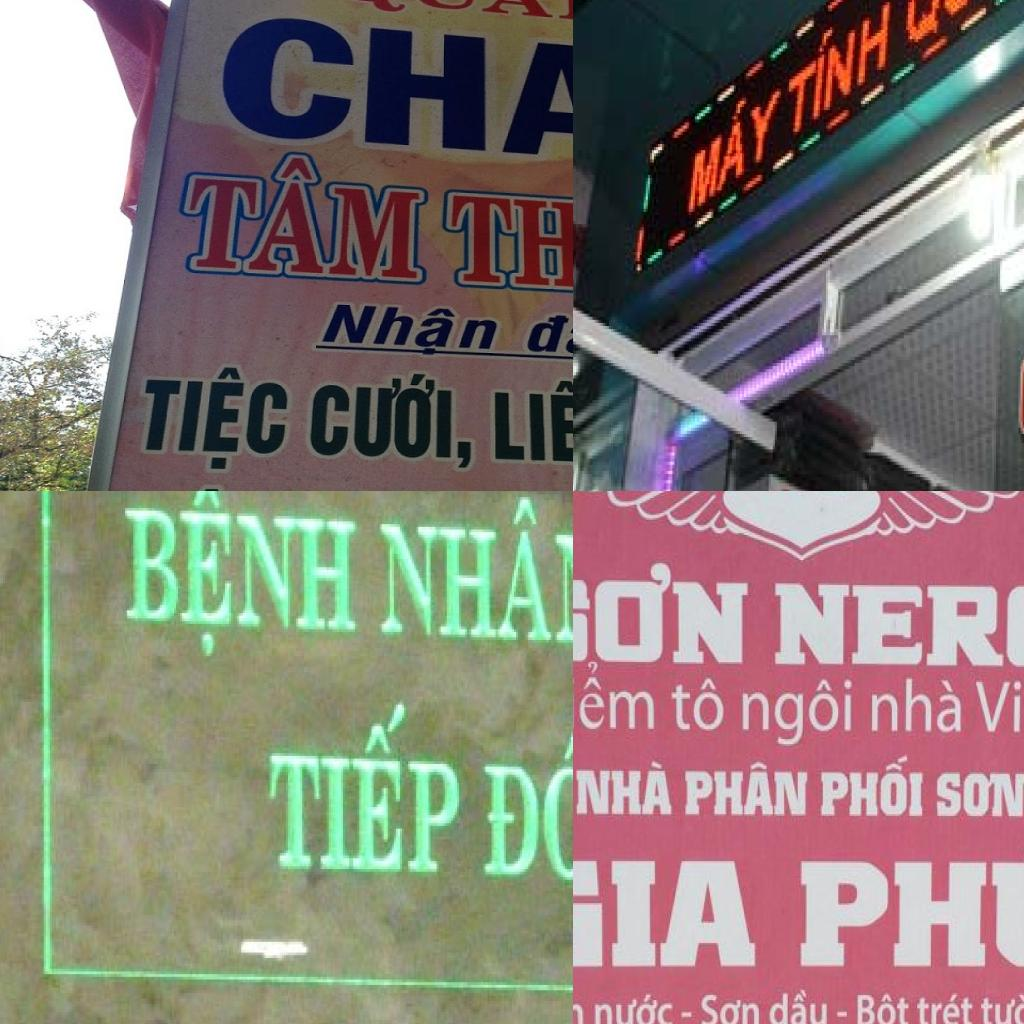text: (209, 9, 573, 174), (118, 491, 367, 669), (266, 688, 467, 888), (167, 140, 432, 284), (373, 491, 573, 667), (797, 833, 1024, 970), (773, 579, 1024, 670), (447, 157, 573, 326), (573, 859, 763, 968), (128, 353, 297, 474), (573, 558, 749, 665), (302, 367, 477, 474), (781, 0, 897, 156), (683, 64, 789, 227), (302, 296, 508, 366), (481, 371, 573, 468), (740, 675, 853, 751), (818, 752, 925, 821), (683, 761, 809, 819), (329, 0, 573, 29), (573, 660, 656, 733), (575, 759, 676, 818), (871, 676, 962, 736), (936, 769, 1024, 821), (509, 313, 573, 372), (670, 676, 725, 736), (975, 680, 1024, 747), (593, 993, 673, 1024), (767, 988, 829, 1024), (700, 993, 761, 1024), (916, 993, 975, 1024), (856, 993, 911, 1024), (978, 991, 1024, 1024)
